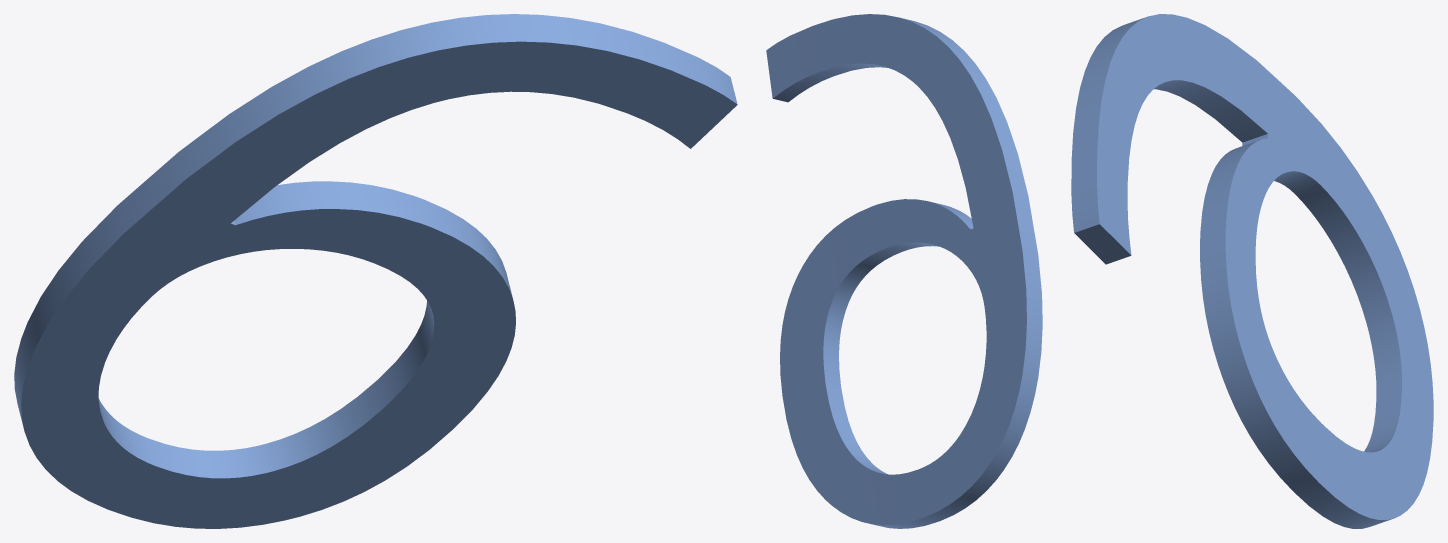
File: New_Number_9.gltf
3 views of the same model, side by side, from view 1: azimuth 30°, elevation 25°; view 2: azimuth 150°, elevation 25°; view 3: azimuth 270°, elevation 25° (orthographic). The views are drawn at different scales.
Parts seen in each view (by area): view 1: Part 45; view 2: Part 45; view 3: Part 45.
Boxes of the visible parts, x1,y1,x2,y2 form: Part 45: (14, 14, 737, 528); Part 45: (766, 14, 1042, 528); Part 45: (1071, 14, 1433, 528).
Bounding box in the file's own units: 0.00455 × 0.00478 × 0.00306.
